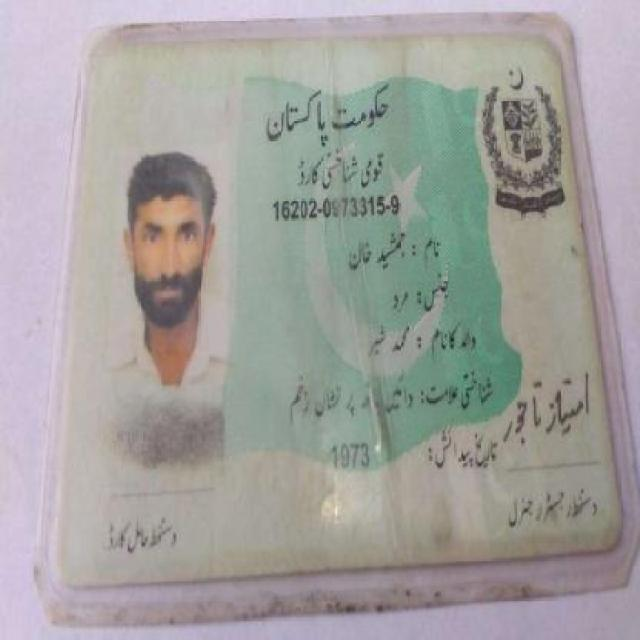Front: (66, 32, 619, 602)
